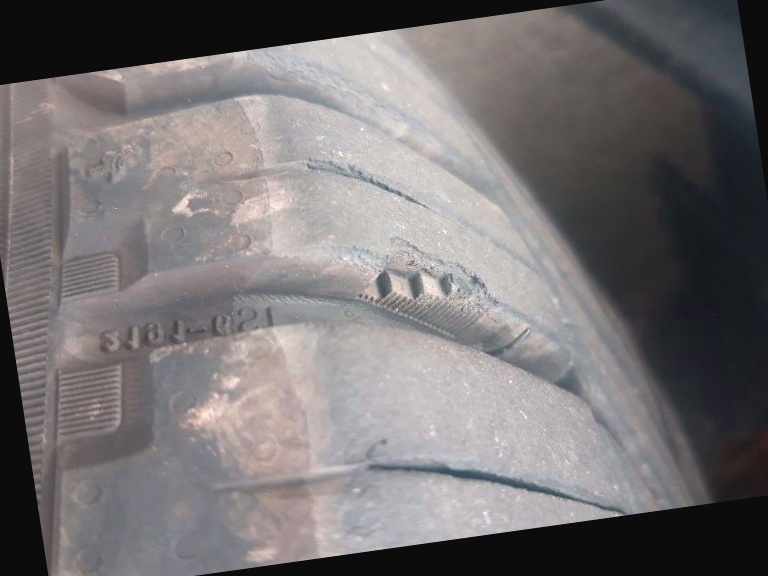temoin:80: (336, 219, 507, 356)
